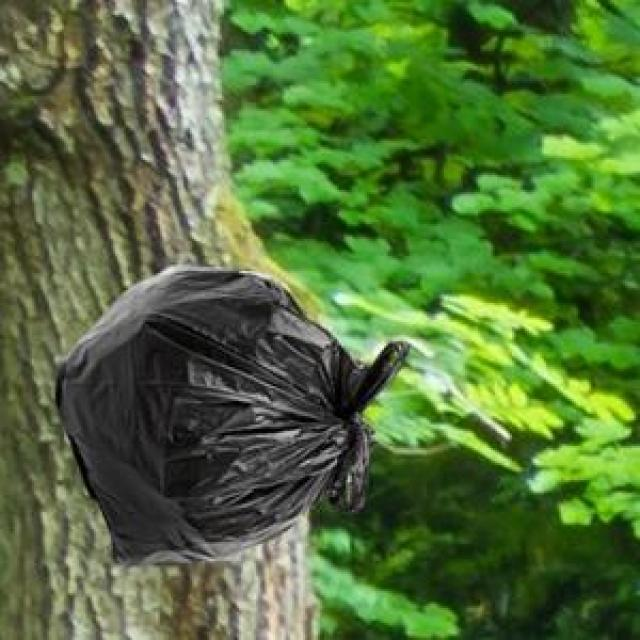waste: (54, 266, 390, 556)
